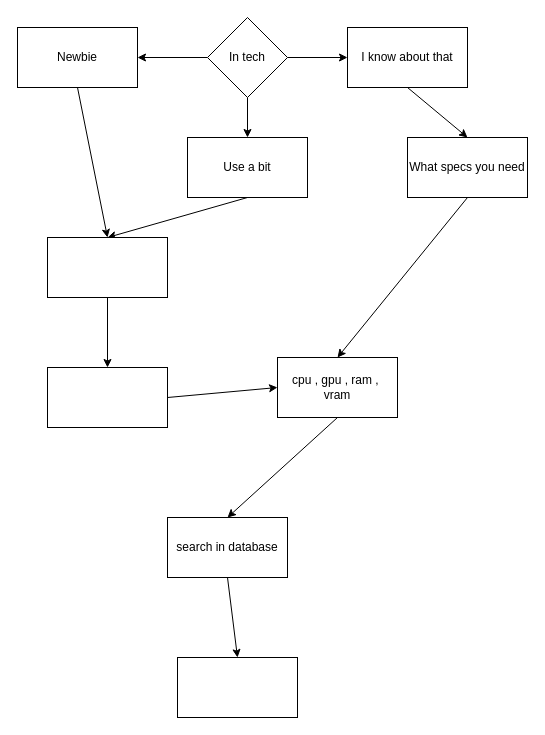
This 545x735 diagram has some shape labels left out. The box of each missing label's shape, as (x1, y1, x2, y2) in pixels:
Games Software all options: (46, 366, 168, 428)
result: (176, 656, 298, 718)
What you wish to do: (46, 236, 168, 298)
